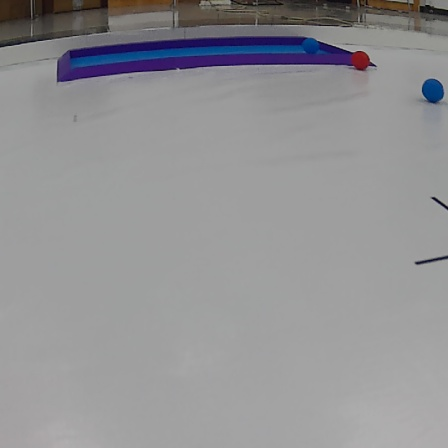blue: (417, 76, 445, 104), (301, 37, 324, 56)
blue_aim: (52, 37, 378, 78)
red: (351, 46, 370, 71)
